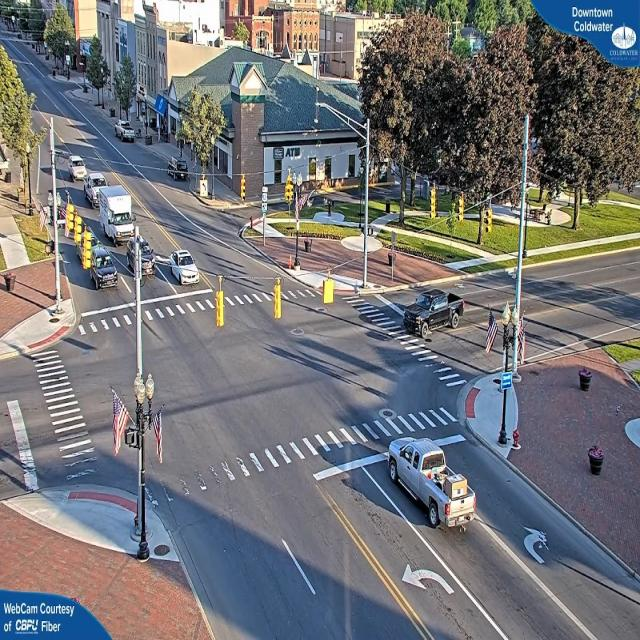car: (384, 437, 478, 530), (405, 293, 464, 338), (174, 248, 199, 288), (68, 155, 88, 181), (116, 122, 137, 146)
